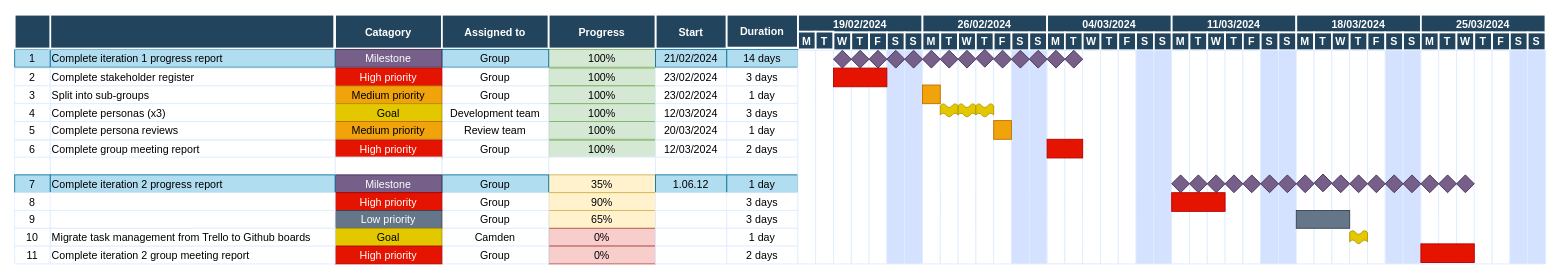
Image size: 1560x279. Some labels were removed from this diagram. The shapes that lost their labels are listed below. From the top down, each one's box as (x1, y1, x2, y2) in pixels, then its label:
(48, 13, 335, 49): Task Name
(49, 192, 335, 210): Complete resources needs documentation
(49, 210, 335, 228): Complete gantt chart
